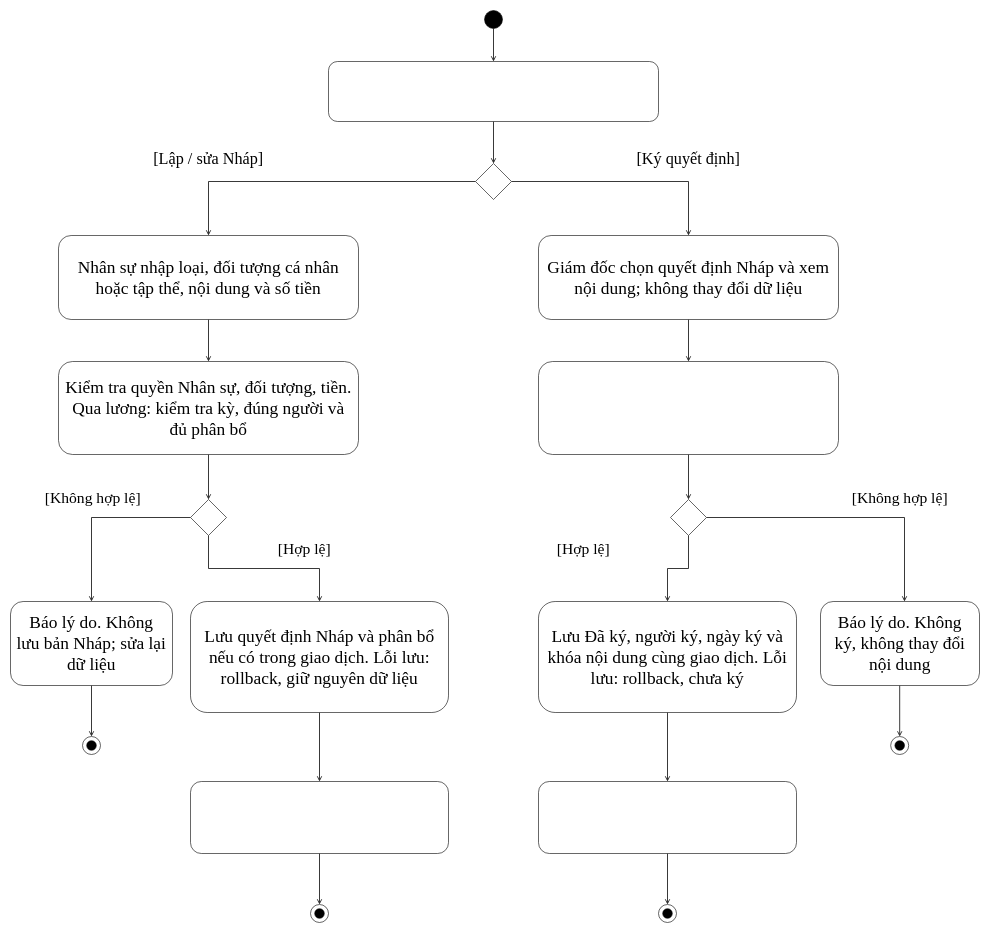
Image size: 990x933. Some labels were removed from this diagram. The shapes that lost their labels are listed below. From the top down, each one's centre as x and y in pixels, then its label:
(x=493, y=91): Chọn lập / sửa quyết định hoặc ký bản Nháp
(x=688, y=407): Kiểm tra quyền Giám đốc, trạng thái Nháp, đối tượng, tiền, kỳ và tổng phân bổ
(x=319, y=817): Hiển thị bản Nháp đã lưu hoặc lỗi lưu; chưa thực hiện tiền
(x=667, y=817): Hiển thị kết quả ký hoặc lỗi lưu; chưa thực hiện tiền
